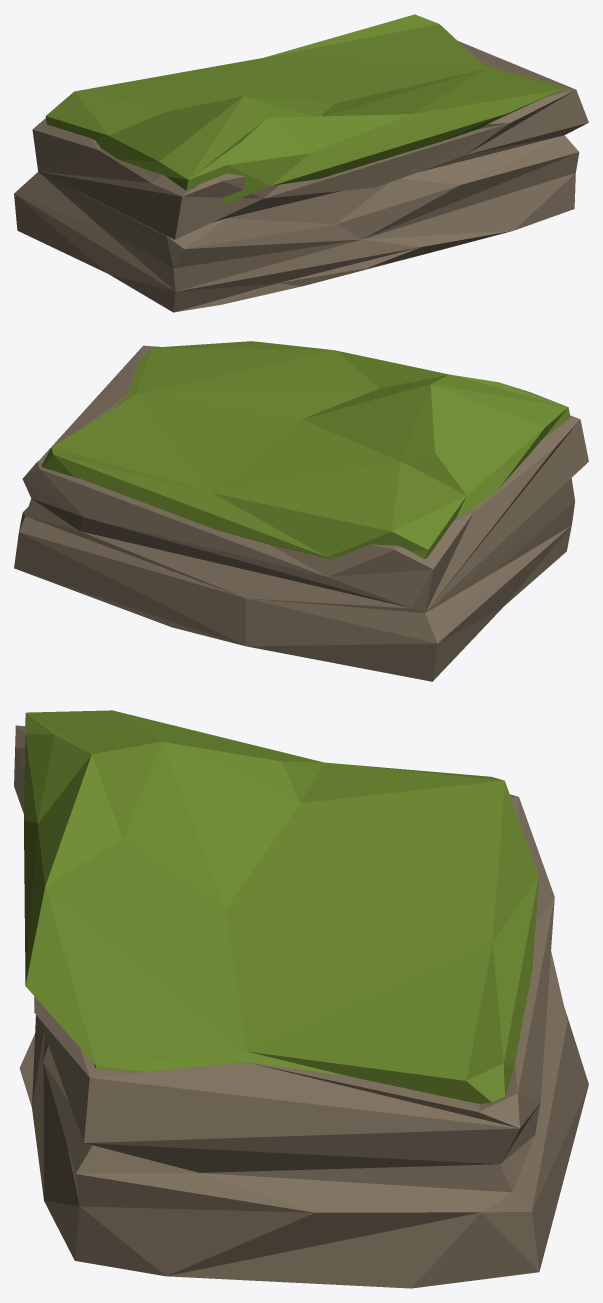
Rendered from Stone_6_moss_brown_mat.fbx.
The picture shows the model from 3 angles, top to bottom: view 1: azimuth 30°, elevation 25°; view 2: azimuth 150°, elevation 25°; view 3: azimuth 270°, elevation 25°; orthographic projection. The views are drawn at different scales.
Parts seen in each view (by area): view 1: Stone_6_moss_brown_mat; view 2: Stone_6_moss_brown_mat; view 3: Stone_6_moss_brown_mat.
Boxes of the visible parts, x1,y1,x2,y2 form: Stone_6_moss_brown_mat: (14,14,588,312); Stone_6_moss_brown_mat: (14,341,588,681); Stone_6_moss_brown_mat: (14,710,588,1288).
Bounding box in the file's own units: 243 × 100 × 167.
